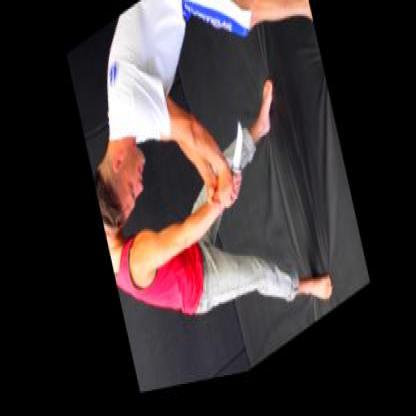knife: (216, 121, 254, 215)
